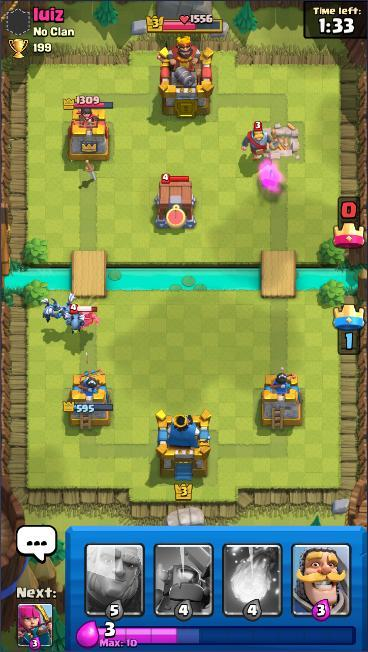ally_minion: (55, 291, 79, 323), (38, 296, 61, 324), (64, 310, 87, 335)
enemy_goblin_cage: (153, 172, 199, 230)
enemy_mini_pekka: (69, 303, 100, 329)
enemy_musketeer: (240, 120, 273, 161)
